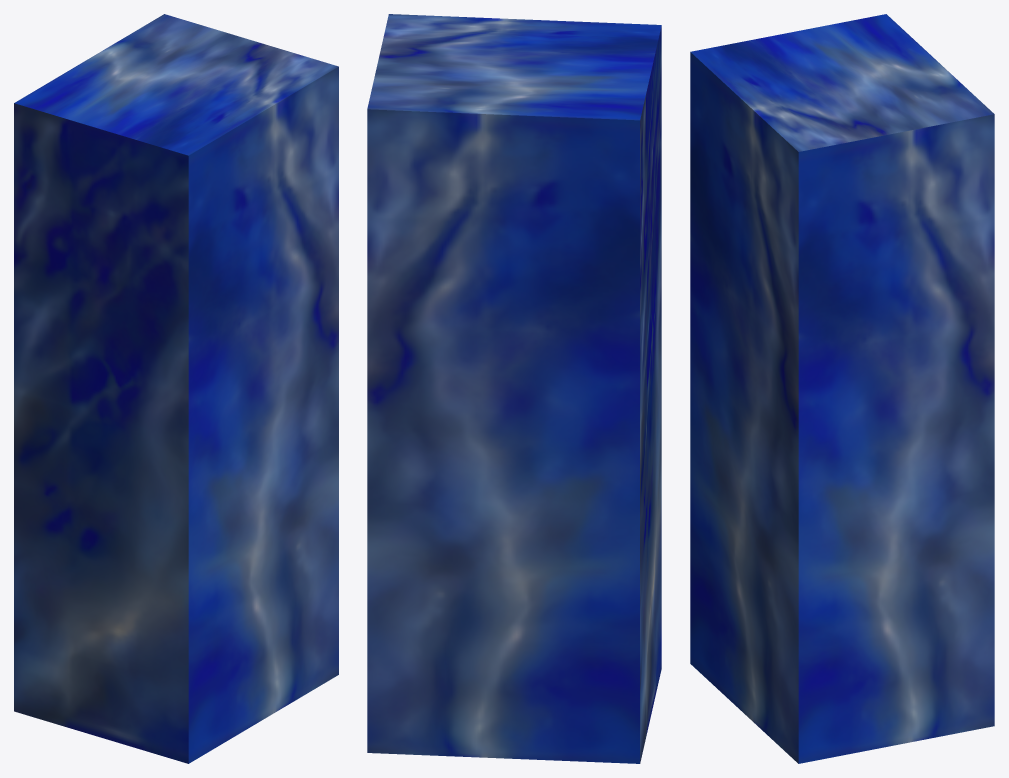
Rendered from BlueBlocks_7.gltf.
3 renders of one model, left to right at view 1: azimuth 30°, elevation 25°; view 2: azimuth 150°, elevation 25°; view 3: azimuth 270°, elevation 25°, orthographic. The views are drawn at different scales.
Parts seen in each view (by area): view 1: BlueBlocks_7; view 2: BlueBlocks_7; view 3: BlueBlocks_7.
Part boxes in pixels (<box>): BlueBlocks_7: <box>14,14,338,763</box>; BlueBlocks_7: <box>367,14,661,763</box>; BlueBlocks_7: <box>690,14,994,763</box>.
Size of the model in its own units: 4.94 by 10.22 by 4.61.
1 material, 1 textured.
